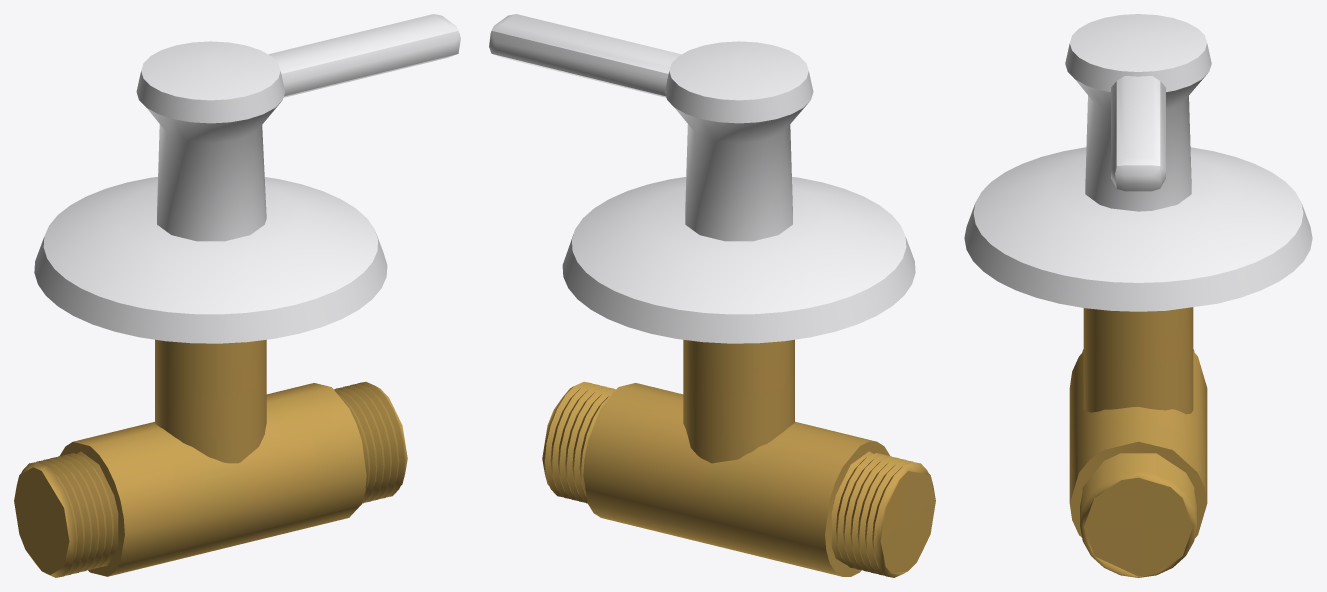
The model's file is HID-REG-003_lod1.glb.
3 renders of one model, left to right at view 1: azimuth 30°, elevation 25°; view 2: azimuth 150°, elevation 25°; view 3: azimuth 270°, elevation 25°, orthographic.
Visible parts, largest first — view 1: HID-REG-003_canopla, HID-REG-003_corpo, HID-REG-003_manopla, HID-REG-003_castelo, HID-REG-003_r1, HID-REG-003_alavanca, HID-REG-003_r2; view 2: HID-REG-003_canopla, HID-REG-003_corpo, HID-REG-003_manopla, HID-REG-003_castelo, HID-REG-003_r1, HID-REG-003_alavanca, HID-REG-003_r2; view 3: HID-REG-003_canopla, HID-REG-003_manopla, HID-REG-003_r2, HID-REG-003_castelo, HID-REG-003_corpo, HID-REG-003_alavanca.
Part boxes in pixels (x1,y1,x2,y2): HID-REG-003_canopla: (34,177,387,343); HID-REG-003_corpo: (60,383,366,576); HID-REG-003_manopla: (136,41,285,241); HID-REG-003_castelo: (155,339,266,463); HID-REG-003_r1: (14,451,118,577); HID-REG-003_alavanca: (268,14,460,97); HID-REG-003_r2: (334,381,407,503); HID-REG-003_canopla: (562,177,915,343); HID-REG-003_corpo: (583,383,889,576); HID-REG-003_manopla: (664,41,813,241); HID-REG-003_castelo: (683,339,794,463); HID-REG-003_r1: (831,451,935,577); HID-REG-003_alavanca: (489,14,681,97); HID-REG-003_r2: (542,381,615,503); HID-REG-003_canopla: (964,147,1312,311); HID-REG-003_manopla: (1065,14,1211,211); HID-REG-003_r2: (1080,453,1196,577); HID-REG-003_castelo: (1083,307,1193,414); HID-REG-003_corpo: (1069,351,1207,538); HID-REG-003_alavanca: (1111,76,1165,191).
Size of the model in its own units: 0.102 by 0.114 by 0.076.
2 materials, 1 textured.
